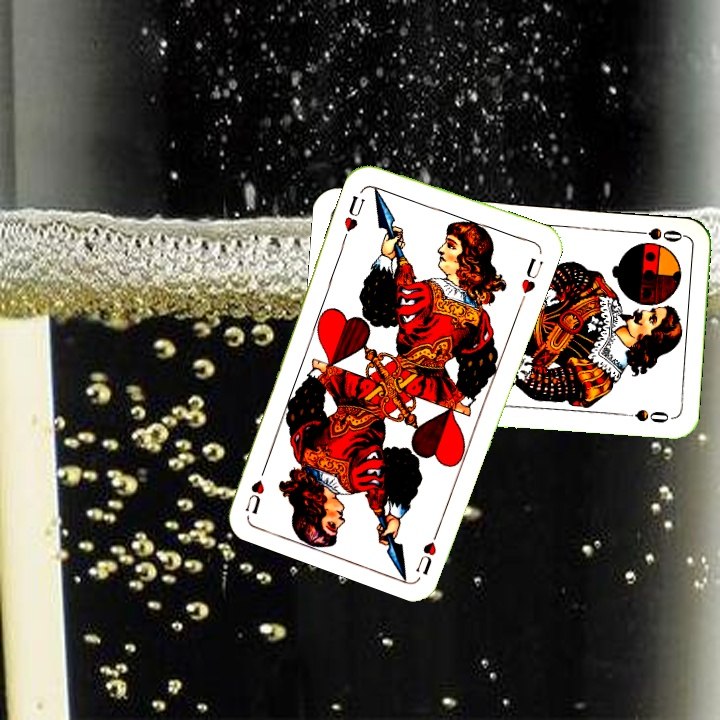HU: (411, 521, 444, 578), (339, 191, 367, 241)
SO: (627, 224, 686, 245)
